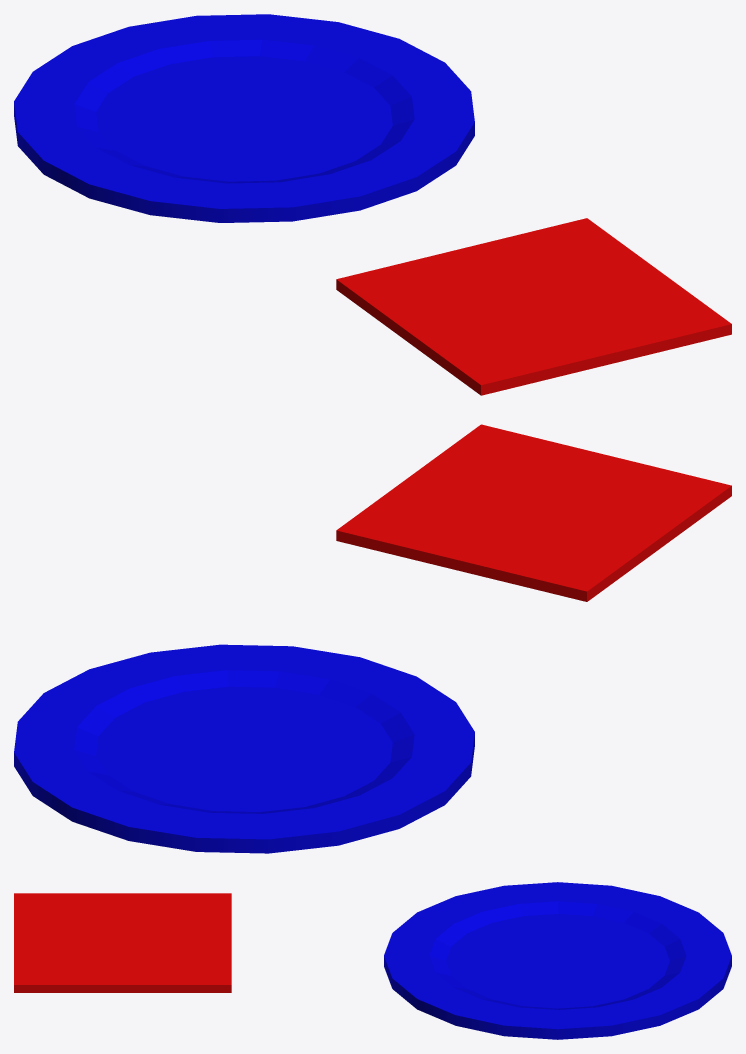
File: nori_low_explosion.fbx
3 views of the same model, one above another, from view 1: azimuth 30°, elevation 25°; view 2: azimuth 150°, elevation 25°; view 3: azimuth 270°, elevation 25° (orthographic). The views are drawn at different scales.
Parts seen in each view (by area): view 1: pCylinder1, pCube3; view 2: pCylinder1, pCube3; view 3: pCylinder1, pCube3.
Part boxes in pixels (left/top/right/bottom): pCylinder1: left=14, top=14, right=474, bottom=222; pCube3: left=336, top=218, right=731, bottom=395; pCylinder1: left=14, top=644, right=474, bottom=853; pCube3: left=336, top=424, right=731, bottom=601; pCylinder1: left=384, top=882, right=731, bottom=1039; pCube3: left=14, top=893, right=231, bottom=992.
Bounding box in the file's own units: 1.6 × 0.1869 × 3.3.
